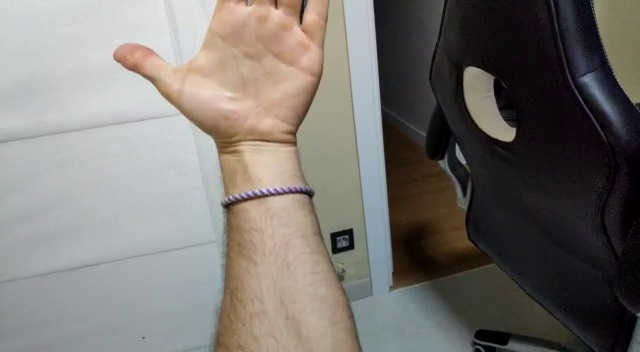Palm: (111, 1, 331, 155)
